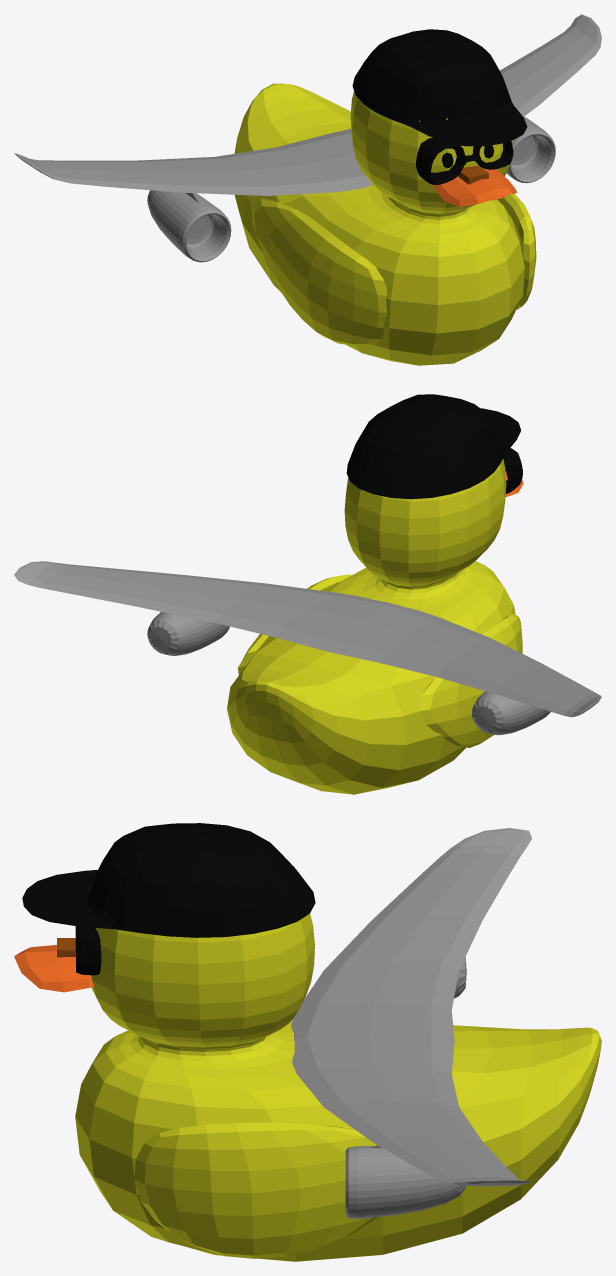
The model's file is DuckModel.glb.
The picture shows the model from 3 angles, top to bottom: view 1: azimuth 30°, elevation 25°; view 2: azimuth 150°, elevation 25°; view 3: azimuth 270°, elevation 25°; orthographic projection. The views are drawn at different scales.
Parts seen in each view (by area): view 1: Duck; view 2: Duck; view 3: Duck.
Part boxes in pixels (<box>): Duck: <box>14,14,601,365</box>; Duck: <box>14,394,601,794</box>; Duck: <box>14,823,601,1261</box>.
Bounding box in the file's own units: 8.51 × 4.61 × 6.
